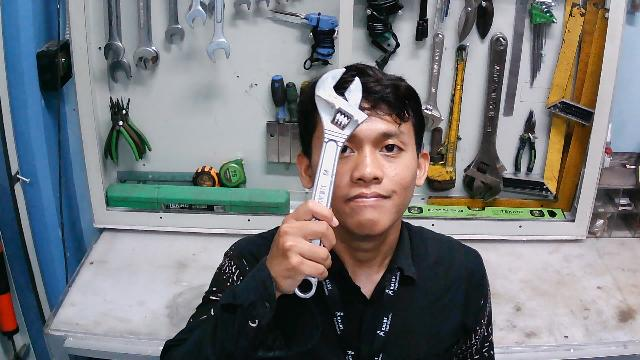kunci_inggris: (293, 69, 367, 300)
